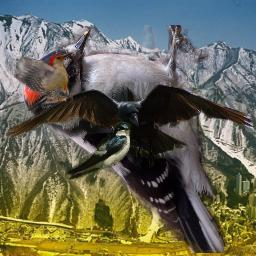Crow: (6, 82, 255, 168)
Swallow: (65, 122, 131, 180)
Woodpecker: (19, 25, 228, 253), (5, 51, 73, 111)
